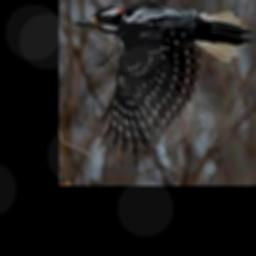Woodpecker: (74, 1, 253, 164)
